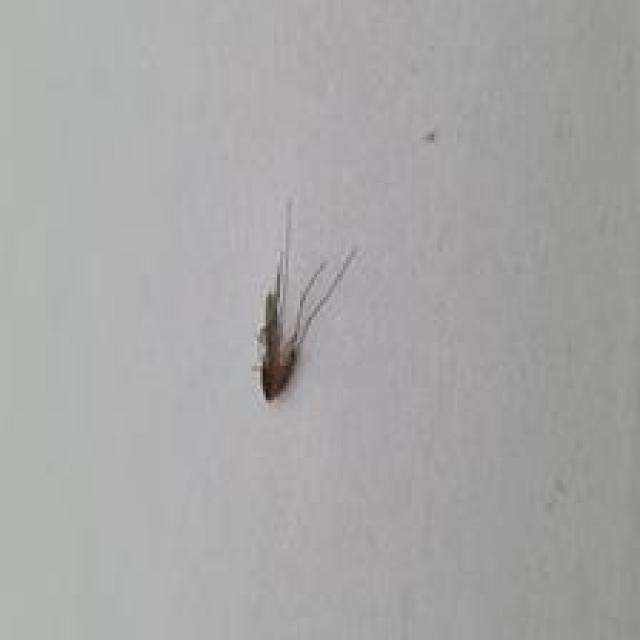Culex: (250, 197, 359, 403)
